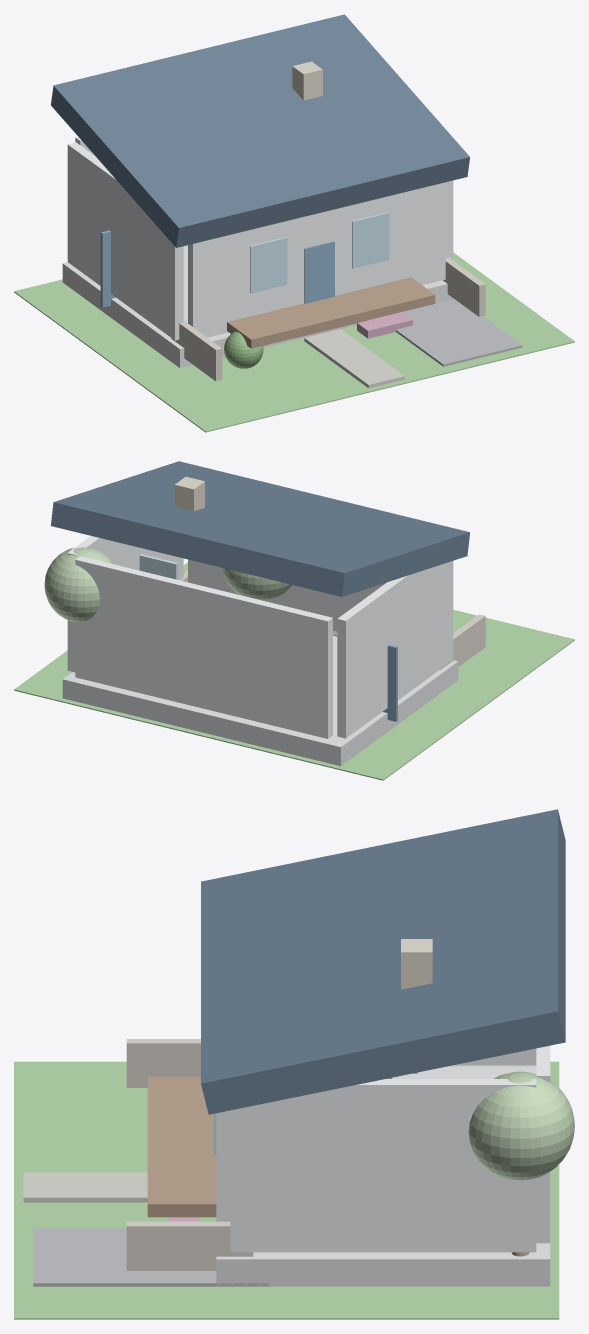
File: BUILDING_HOUSE_COASTAL_COTTAGE_001_LOD_GAMEPLAY.glb
3 renders of one model, top to bottom at view 1: azimuth 30°, elevation 25°; view 2: azimuth 150°, elevation 25°; view 3: azimuth 270°, elevation 25°, orthographic. The views are drawn at different scales.
Visible parts, largest first — view 1: BUILDING_HOUSE_COASTAL_COTTAGE_001_GAMEPLAY_ROOF, BUILDING_HOUSE_COASTAL_COTTAGE_001_GAMEPLAY_GROUND, BUILDING_HOUSE_COASTAL_COTTAGE_001_GAMEPLAY_WALL_FRONT, BUILDING_HOUSE_COASTAL_COTTAGE_001_GAMEPLAY_WALL_LEFT, BUILDING_HOUSE_COASTAL_COTTAGE_001_GAMEPLAY_VERANDAH, BUILDING_HOUSE_COASTAL_COTTAGE_001_GAMEPLAY_DRIVEWAY, BUILDING_HOUSE_COASTAL_COTTAGE_001_GAMEPLAY_FOUNDATION, BUILDING_HOUSE_COASTAL_COTTAGE_001_GAMEPLAY_PATH, BUILDING_HOUSE_COASTAL_COTTAGE_001_GAMEPLAY_WINDOW_01, BUILDING_HOUSE_COASTAL_COTTAGE_001_GAMEPLAY_WINDOW_02, BUILDING_HOUSE_COASTAL_COTTAGE_001_GAMEPLAY_DOOR_FRONT, BUILDING_HOUSE_COASTAL_COTTAGE_001_GAMEPLAY_FENCE_01 (+6 smaller); view 2: BUILDING_HOUSE_COASTAL_COTTAGE_001_GAMEPLAY_WALL_BACK, BUILDING_HOUSE_COASTAL_COTTAGE_001_GAMEPLAY_ROOF, BUILDING_HOUSE_COASTAL_COTTAGE_001_GAMEPLAY_GROUND, BUILDING_HOUSE_COASTAL_COTTAGE_001_GAMEPLAY_WALL_LEFT, BUILDING_HOUSE_COASTAL_COTTAGE_001_GAMEPLAY_FOUNDATION, BUILDING_HOUSE_COASTAL_COTTAGE_001_GAMEPLAY_TREE_CANOPY, BUILDING_HOUSE_COASTAL_COTTAGE_001_GAMEPLAY_WALL_FRONT, BUILDING_HOUSE_COASTAL_COTTAGE_001_GAMEPLAY_WALL_RIGHT, MOD_TREE_EUCALYPTUS_STANDARD_001_GAMEPLAY_CANOPY, BUILDING_HOUSE_COASTAL_COTTAGE_001_GAMEPLAY_FENCE_01, BUILDING_HOUSE_COASTAL_COTTAGE_001_GAMEPLAY_CHIMNEY, BUILDING_HOUSE_COASTAL_COTTAGE_001_GAMEPLAY_DOOR_SERVICE (+1 smaller); view 3: BUILDING_HOUSE_COASTAL_COTTAGE_001_GAMEPLAY_ROOF, BUILDING_HOUSE_COASTAL_COTTAGE_001_GAMEPLAY_WALL_RIGHT, BUILDING_HOUSE_COASTAL_COTTAGE_001_GAMEPLAY_GROUND, BUILDING_HOUSE_COASTAL_COTTAGE_001_GAMEPLAY_FOUNDATION, BUILDING_HOUSE_COASTAL_COTTAGE_001_GAMEPLAY_VERANDAH, BUILDING_HOUSE_COASTAL_COTTAGE_001_GAMEPLAY_TREE_CANOPY, BUILDING_HOUSE_COASTAL_COTTAGE_001_GAMEPLAY_DRIVEWAY, BUILDING_HOUSE_COASTAL_COTTAGE_001_GAMEPLAY_FENCE_02, BUILDING_HOUSE_COASTAL_COTTAGE_001_GAMEPLAY_PATH, BUILDING_HOUSE_COASTAL_COTTAGE_001_GAMEPLAY_FENCE_01, BUILDING_HOUSE_COASTAL_COTTAGE_001_GAMEPLAY_WALL_FRONT, BUILDING_HOUSE_COASTAL_COTTAGE_001_GAMEPLAY_WALL_BACK (+2 smaller).
Boxes of the visible parts, left/top/right/bottom form: BUILDING_HOUSE_COASTAL_COTTAGE_001_GAMEPLAY_ROOF: left=51, top=14, right=469, bottom=247; BUILDING_HOUSE_COASTAL_COTTAGE_001_GAMEPLAY_GROUND: left=14, top=252, right=574, bottom=432; BUILDING_HOUSE_COASTAL_COTTAGE_001_GAMEPLAY_WALL_FRONT: left=188, top=182, right=445, bottom=337; BUILDING_HOUSE_COASTAL_COTTAGE_001_GAMEPLAY_WALL_LEFT: left=67, top=142, right=183, bottom=340; BUILDING_HOUSE_COASTAL_COTTAGE_001_GAMEPLAY_VERANDAH: left=227, top=277, right=435, bottom=348; BUILDING_HOUSE_COASTAL_COTTAGE_001_GAMEPLAY_DRIVEWAY: left=396, top=299, right=522, bottom=366; BUILDING_HOUSE_COASTAL_COTTAGE_001_GAMEPLAY_FOUNDATION: left=62, top=245, right=453, bottom=368; BUILDING_HOUSE_COASTAL_COTTAGE_001_GAMEPLAY_PATH: left=304, top=329, right=404, bottom=388; BUILDING_HOUSE_COASTAL_COTTAGE_001_GAMEPLAY_WINDOW_01: left=250, top=237, right=287, bottom=293; BUILDING_HOUSE_COASTAL_COTTAGE_001_GAMEPLAY_WINDOW_02: left=352, top=212, right=389, bottom=268; BUILDING_HOUSE_COASTAL_COTTAGE_001_GAMEPLAY_DOOR_FRONT: left=304, top=241, right=334, bottom=303; BUILDING_HOUSE_COASTAL_COTTAGE_001_GAMEPLAY_FENCE_01: left=171, top=320, right=222, bottom=381; BUILDING_HOUSE_COASTAL_COTTAGE_001_GAMEPLAY_WALL_BACK: left=75, top=556, right=332, bottom=738; BUILDING_HOUSE_COASTAL_COTTAGE_001_GAMEPLAY_ROOF: left=51, top=461, right=469, bottom=596; BUILDING_HOUSE_COASTAL_COTTAGE_001_GAMEPLAY_GROUND: left=14, top=562, right=574, bottom=780; BUILDING_HOUSE_COASTAL_COTTAGE_001_GAMEPLAY_WALL_LEFT: left=337, top=561, right=453, bottom=738; BUILDING_HOUSE_COASTAL_COTTAGE_001_GAMEPLAY_FOUNDATION: left=62, top=635, right=458, bottom=766; BUILDING_HOUSE_COASTAL_COTTAGE_001_GAMEPLAY_TREE_CANOPY: left=44, top=547, right=114, bottom=622; BUILDING_HOUSE_COASTAL_COTTAGE_001_GAMEPLAY_WALL_FRONT: left=188, top=559, right=386, bottom=631; BUILDING_HOUSE_COASTAL_COTTAGE_001_GAMEPLAY_WALL_RIGHT: left=67, top=536, right=183, bottom=672; MOD_TREE_EUCALYPTUS_STANDARD_001_GAMEPLAY_CANOPY: left=221, top=568, right=291, bottom=600; BUILDING_HOUSE_COASTAL_COTTAGE_001_GAMEPLAY_FENCE_01: left=440, top=614, right=485, bottom=669; BUILDING_HOUSE_COASTAL_COTTAGE_001_GAMEPLAY_CHIMNEY: left=174, top=476, right=204, bottom=511; BUILDING_HOUSE_COASTAL_COTTAGE_001_GAMEPLAY_DOOR_SERVICE: left=382, top=644, right=397, bottom=721; BUILDING_HOUSE_COASTAL_COTTAGE_001_GAMEPLAY_ROOF: left=201, top=809, right=565, bottom=1114; BUILDING_HOUSE_COASTAL_COTTAGE_001_GAMEPLAY_WALL_RIGHT: left=230, top=1079, right=536, bottom=1252; BUILDING_HOUSE_COASTAL_COTTAGE_001_GAMEPLAY_GROUND: left=14, top=1061, right=559, bottom=1319; BUILDING_HOUSE_COASTAL_COTTAGE_001_GAMEPLAY_FOUNDATION: left=216, top=1066, right=550, bottom=1286; BUILDING_HOUSE_COASTAL_COTTAGE_001_GAMEPLAY_VERANDAH: left=147, top=1076, right=216, bottom=1217; BUILDING_HOUSE_COASTAL_COTTAGE_001_GAMEPLAY_TREE_CANOPY: left=468, top=1071, right=574, bottom=1180; BUILDING_HOUSE_COASTAL_COTTAGE_001_GAMEPLAY_DRIVEWAY: left=33, top=1228, right=268, bottom=1286; BUILDING_HOUSE_COASTAL_COTTAGE_001_GAMEPLAY_FENCE_02: left=126, top=1221, right=253, bottom=1270; BUILDING_HOUSE_COASTAL_COTTAGE_001_GAMEPLAY_PATH: left=23, top=1172, right=147, bottom=1202; BUILDING_HOUSE_COASTAL_COTTAGE_001_GAMEPLAY_FENCE_01: left=126, top=1039, right=200, bottom=1087; BUILDING_HOUSE_COASTAL_COTTAGE_001_GAMEPLAY_WALL_FRONT: left=216, top=1110, right=230, bottom=1221; BUILDING_HOUSE_COASTAL_COTTAGE_001_GAMEPLAY_WALL_BACK: left=536, top=1045, right=550, bottom=1243.
Bounding box in the file's own units: 6.9 × 3.62 × 6.38.
